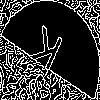K: (25, 24, 65, 82)
